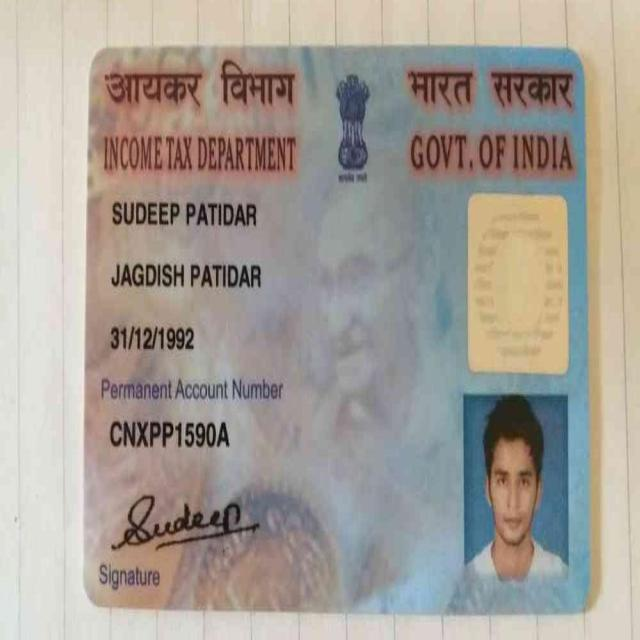pan_card: (91, 49, 593, 614)
